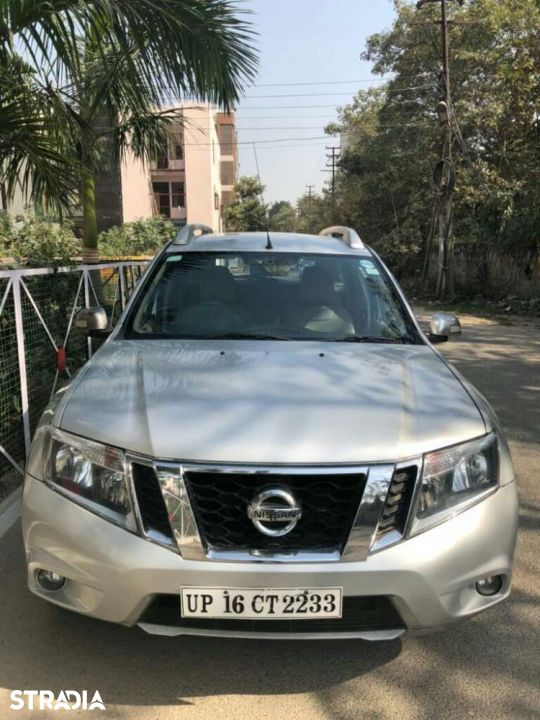number_plate: (179, 585, 345, 618)
